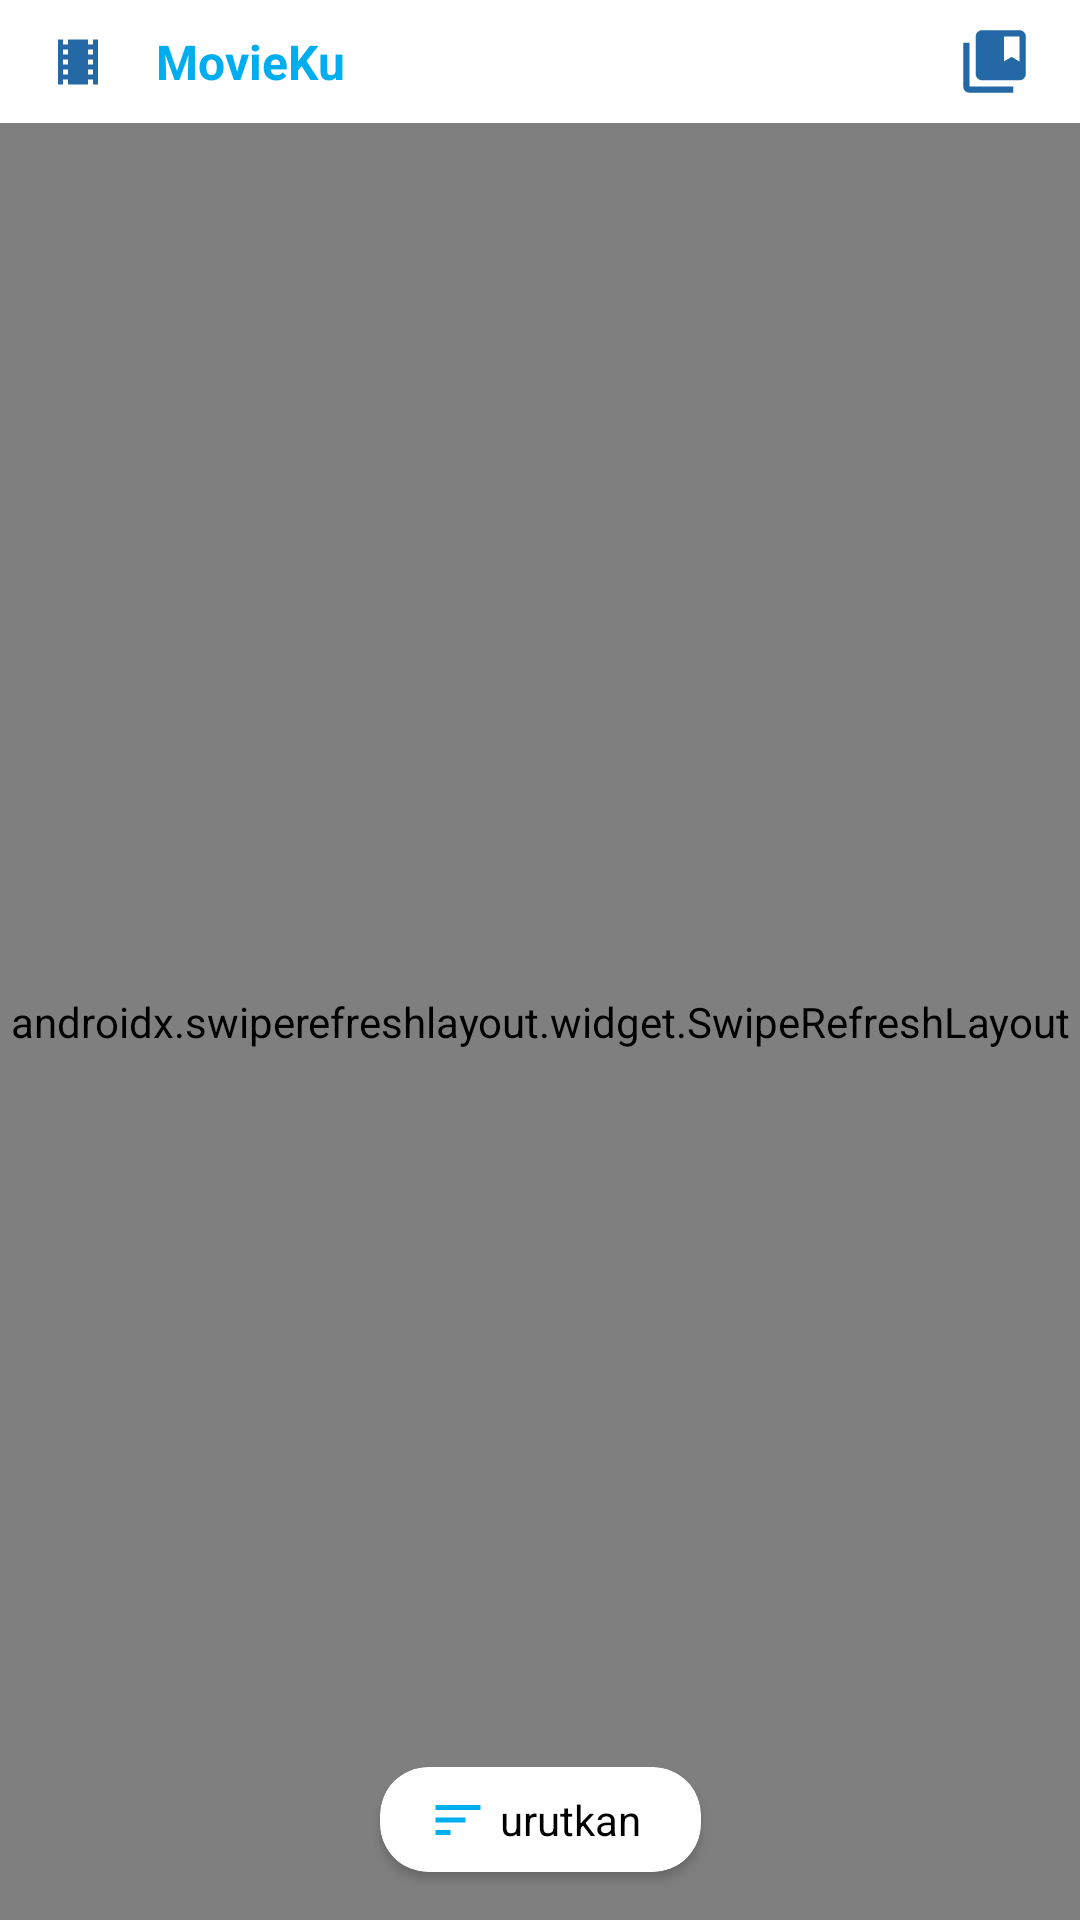

Screen size 1080px x 1920px. Icon name, then its box in pixels as box(x1, y1, x2, y2):
collections bookmark: box(963, 30, 1026, 93)
local movies: box(58, 39, 98, 85)
sort: box(435, 1805, 481, 1835)
